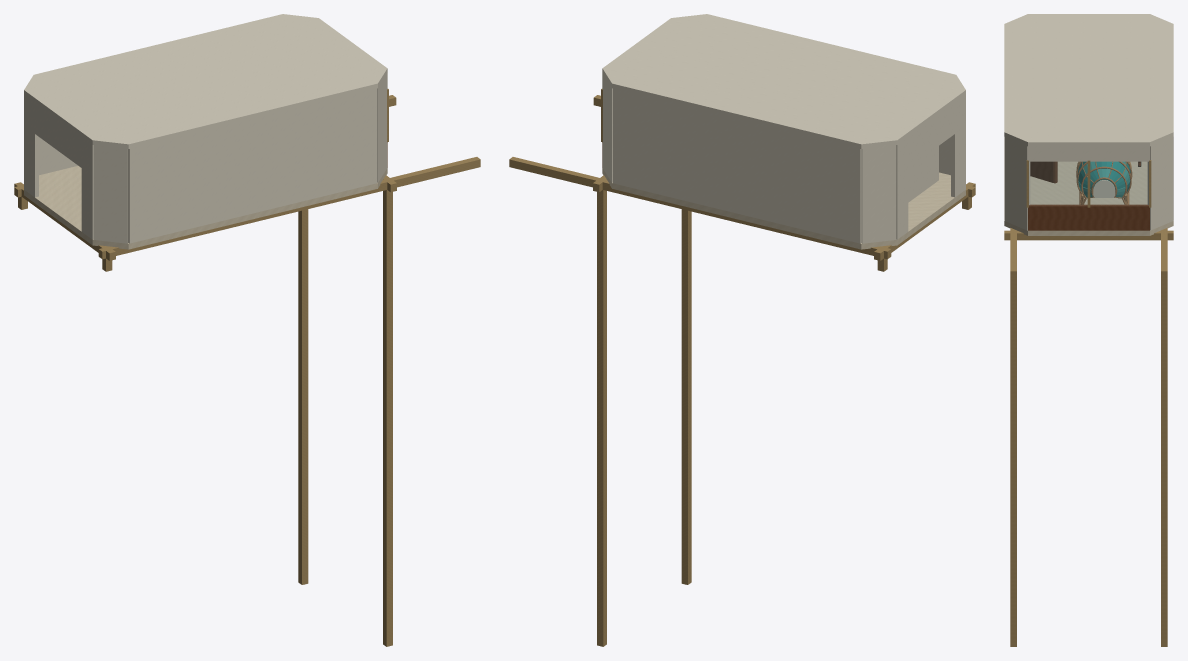
Rendered from D04_STARBOARD_AFT_HOME_915_r001.glb.
3 views of the same model, side by side, from view 1: azimuth 30°, elevation 25°; view 2: azimuth 150°, elevation 25°; view 3: azimuth 270°, elevation 25° (orthographic). The views are drawn at different scales.
Parts seen in each view (by area): view 1: SA915_D04H904_Roof, SA915_D04H904_Shell_7, SA915_D04H904_Pier_9, SA915_D04H904_Floor, SA915_D04H904_Pier_10, SA915_D04H904_Shell_6, SA915_D04H904_FloorCross_0, SA915_D04H904_EntryHeader, SA915_D04H904_EntryWall_1, SA915_D04H904_EntryWall_0, SA915_D04H904_Shell_0, SA915_D04H904_Shell_3; view 2: SA915_D04H904_Roof, SA915_D04H904_Shell_3, SA915_D04H904_Pier_10, SA915_D04H904_Pier_9, SA915_D04H904_Floor, SA915_D04H904_Shell_4, SA915_D04H904_FloorCross_1, SA915_D04H904_EntryHeader, SA915_D04H904_EntryWall_0, SA915_D04H904_EntryWall_1, SA915_D04H904_BathDogleg, SA915_D04H904_Shell_2; view 3: SA915_D04H904_Roof, SA915_D04H904_GardenGlass, SA915_D04H904_Floor, SA915_D04H904_GardenDado, SA915_D04H904_Pier_9, SA915_D04H904_Pier_10, SA915_D04H904_Shell_0, SA915_D04H904_Shell_2, SA915_D04H904_GardenHead, SA915_D04H904_Long_-58.650000000000006, SA915_D04H904_QuietWing, SA915_ReservedCocoon__Rear ivory acoustic diffuser (+2 smaller).
Boxes of the visible parts, x1,y1,x2,y2 form: SA915_D04H904_Roof: [24, 14, 387, 148]; SA915_D04H904_Shell_7: [128, 88, 376, 243]; SA915_D04H904_Pier_9: [383, 178, 392, 646]; SA915_D04H904_Floor: [24, 165, 387, 249]; SA915_D04H904_Pier_10: [298, 209, 308, 584]; SA915_D04H904_Shell_6: [93, 145, 128, 243]; SA915_D04H904_FloorCross_0: [98, 157, 480, 259]; SA915_D04H904_EntryHeader: [35, 103, 81, 167]; SA915_D04H904_EntryWall_1: [24, 95, 38, 197]; SA915_D04H904_EntryWall_0: [81, 137, 93, 239]; SA915_D04H904_Shell_0: [377, 74, 387, 182]; SA915_D04H904_Shell_3: [39, 137, 77, 175]; SA915_D04H904_Roof: [602, 14, 965, 148]; SA915_D04H904_Shell_3: [613, 88, 861, 243]; SA915_D04H904_Pier_10: [597, 178, 606, 646]; SA915_D04H904_Pier_9: [681, 209, 691, 584]; SA915_D04H904_Floor: [602, 168, 965, 249]; SA915_D04H904_Shell_4: [861, 145, 896, 243]; SA915_D04H904_FloorCross_1: [509, 157, 891, 259]; SA915_D04H904_EntryHeader: [908, 103, 954, 167]; SA915_D04H904_EntryWall_0: [951, 95, 965, 197]; SA915_D04H904_EntryWall_1: [896, 137, 908, 239]; SA915_D04H904_BathDogleg: [908, 146, 938, 202]; SA915_D04H904_Shell_2: [602, 74, 612, 182]; SA915_D04H904_Roof: [1004, 14, 1173, 146]; SA915_D04H904_GardenGlass: [1030, 162, 1147, 205]; SA915_D04H904_Floor: [1004, 161, 1173, 235]; SA915_D04H904_GardenDado: [1028, 204, 1149, 230]; SA915_D04H904_Pier_9: [1010, 230, 1016, 646]; SA915_D04H904_Pier_10: [1161, 230, 1167, 646]; SA915_D04H904_Shell_0: [1005, 137, 1030, 230]; SA915_D04H904_Shell_2: [1147, 137, 1172, 230]; SA915_D04H904_GardenHead: [1028, 146, 1149, 161]; SA915_D04H904_Long_-58.650000000000006: [1004, 230, 1173, 240]; SA915_D04H904_QuietWing: [1030, 161, 1057, 183]; SA915_ReservedCocoon__Rear ivory acoustic diffuser: [1093, 180, 1115, 197].
Bounding box in the file's own units: 16.55 × 23.78 × 7.2.
Materials: 36 (21 with a texture image).
